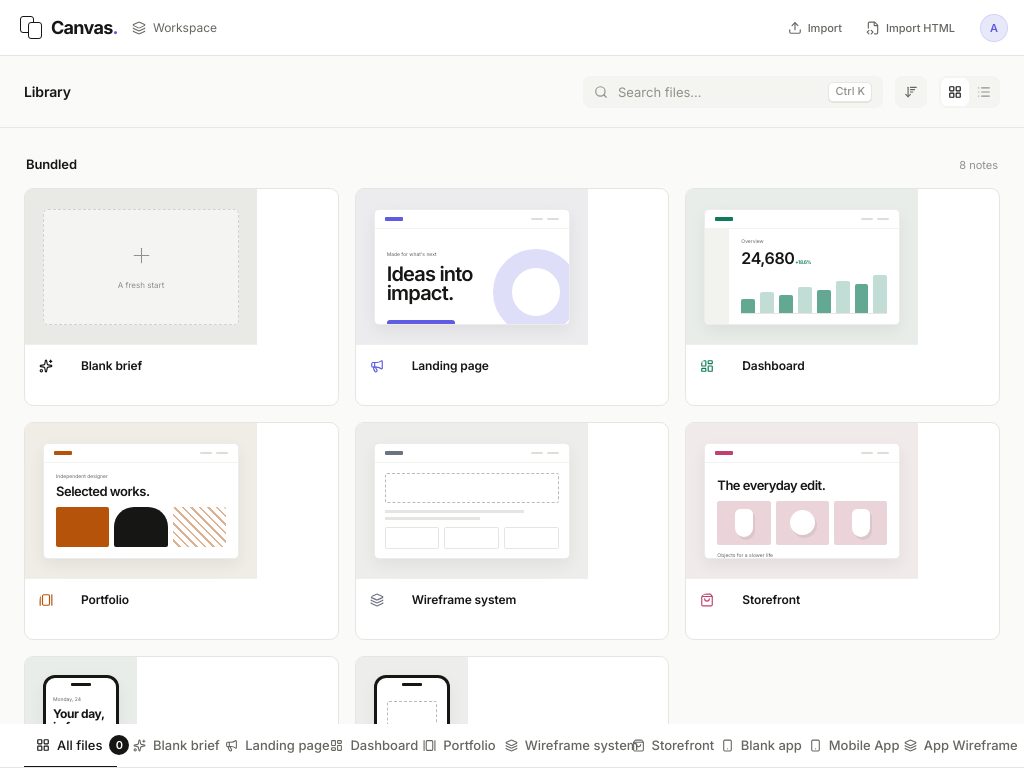
CanvasSurface brainstorming entry › shows the lake with different project kinds and continues from local memory
Expected: the button with test id "create-kind-dashboard" is shown, x1=685 y1=188 x2=1000 y2=406
Step 1. Click the button with test id "create-kind-landing" → {"x": 512, "y": 297}, box x1=355 y1=188 x2=669 y2=406
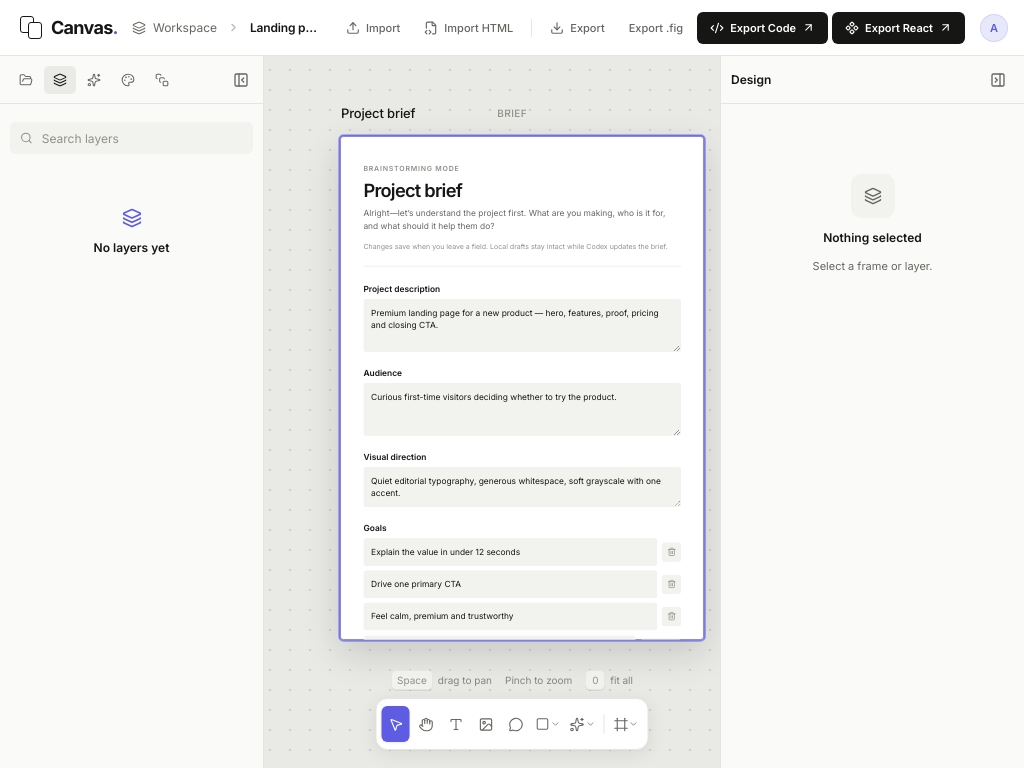
Expected: the element with test id "project-lake" is gone
Expected: the element with test id "brief-frame" is shown, x1=340 y1=136 x2=704 y2=640
Step 2. Click the button with test id "lake-toggle-button" → {"x": 174, "y": 28}, box x1=132 y1=14 x2=217 y2=41
(page scrolled)
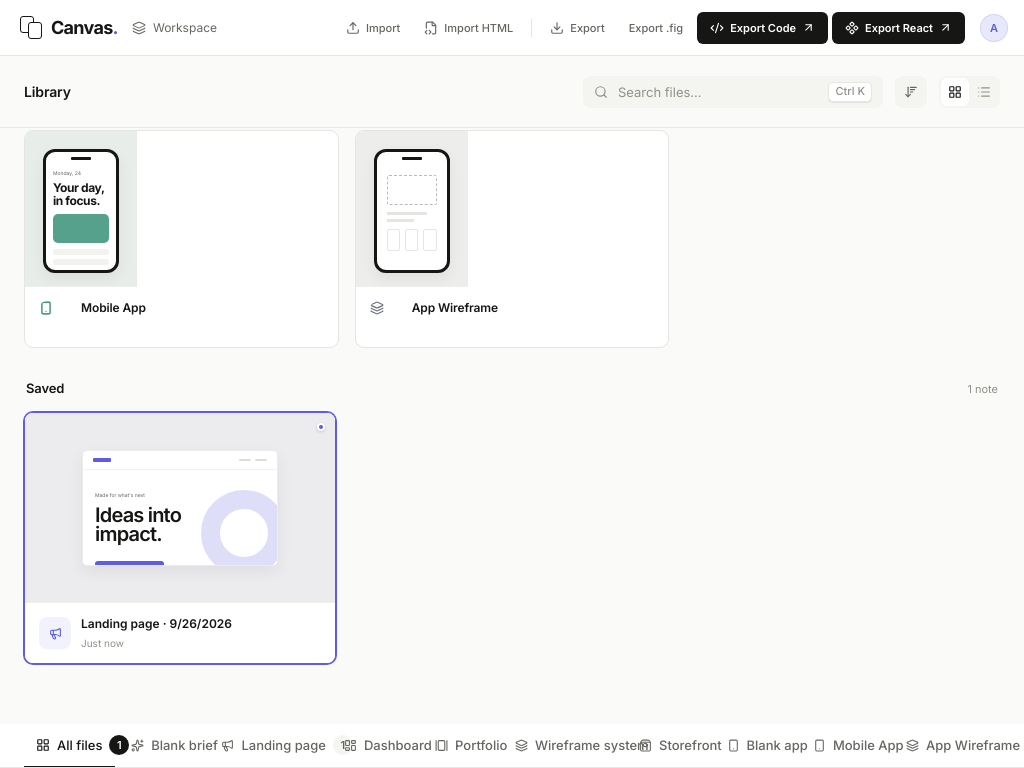
Expected: the element with test id "project-lake" is shown
Expected: the element with test id "project-card" is shown, x1=24 y1=412 x2=336 y2=664
